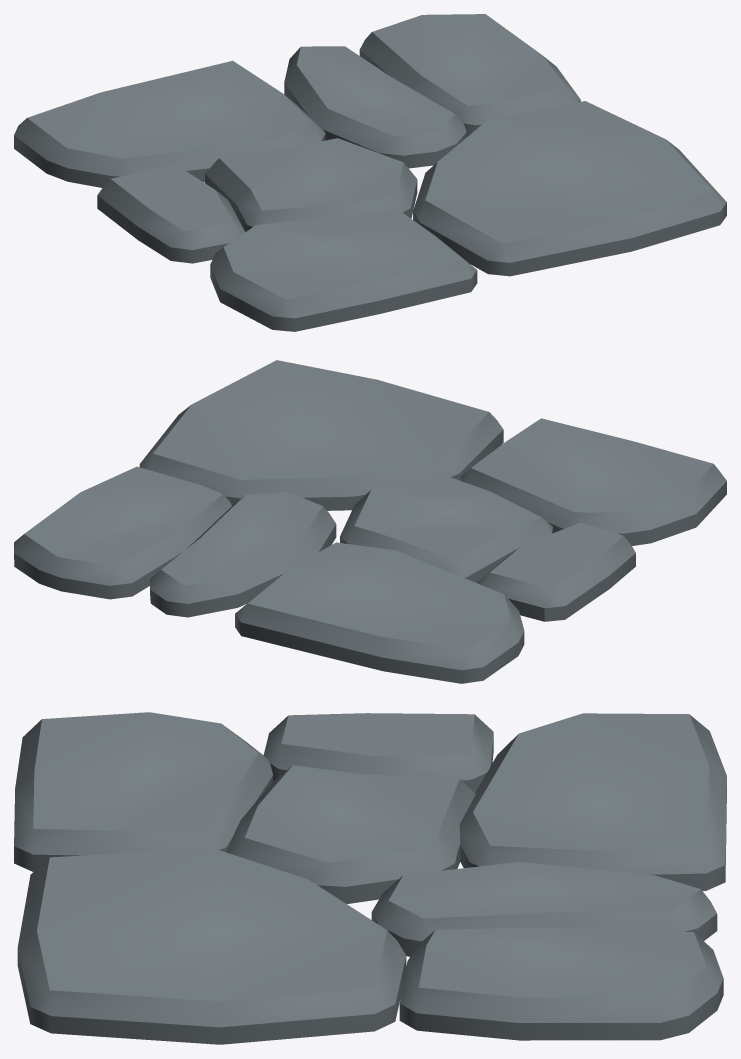
File: Path B.glb
3 renders of one model, top to bottom at view 1: azimuth 30°, elevation 25°; view 2: azimuth 150°, elevation 25°; view 3: azimuth 270°, elevation 25°, orthographic. The views are drawn at different scales.
Parts seen in each view (by area): view 1: path_B; view 2: path_B; view 3: path_B.
Part boxes in pixels (x1,y1,x2,y2): path_B: (14, 14, 726, 331); path_B: (14, 360, 726, 683); path_B: (14, 712, 726, 1044).
Size of the model in its own units: 1.89 by 0.1 by 1.86.
Materials: 1 (1 with a texture image).
